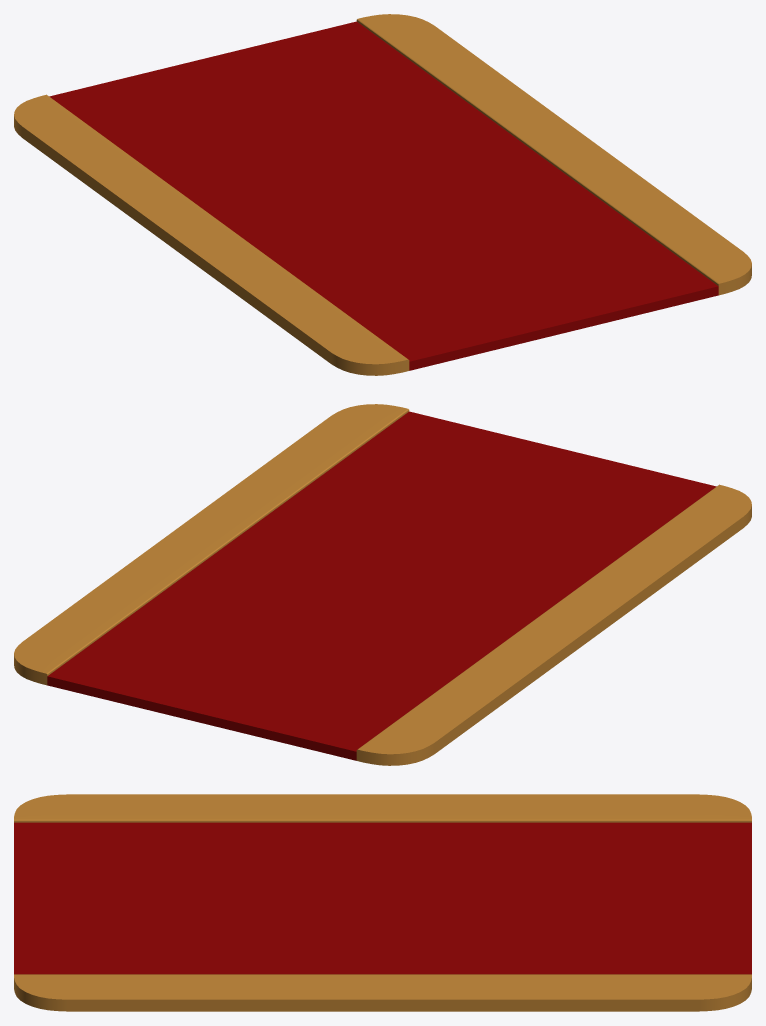
File: Carpet_Ground.fbx
3 views of the same model, one above another, from view 1: azimuth 30°, elevation 25°; view 2: azimuth 150°, elevation 25°; view 3: azimuth 270°, elevation 25° (orthographic).
Parts seen in each view (by area): view 1: Carpet_Ground; view 2: Carpet_Ground; view 3: Carpet_Ground.
Part boxes in pixels (left/top/right/bottom): Carpet_Ground: left=14, top=14, right=751, bottom=375; Carpet_Ground: left=14, top=404, right=751, bottom=765; Carpet_Ground: left=14, top=794, right=751, bottom=1011.
Bounding box in the file's own units: 287 × 7.71 × 436.
